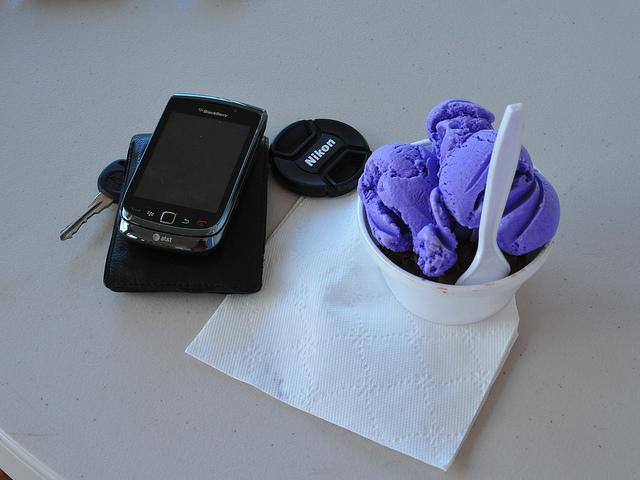phone: (126, 135, 262, 289), (167, 95, 258, 247)
